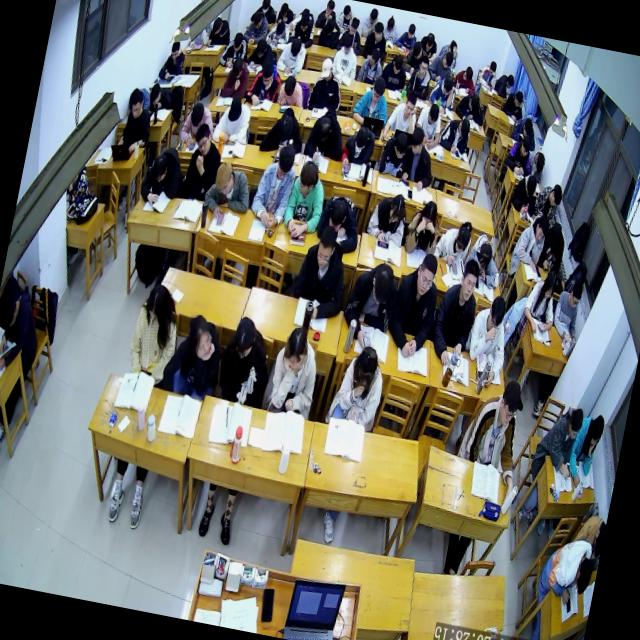bow: (200, 159, 254, 225), (312, 190, 366, 254), (138, 138, 186, 204), (302, 106, 348, 168), (258, 102, 310, 156), (460, 229, 506, 287), (432, 216, 474, 269), (453, 90, 489, 127), (276, 72, 308, 108), (146, 79, 177, 115), (246, 35, 276, 68), (510, 111, 540, 143), (316, 15, 342, 50), (265, 15, 293, 47)
down: (496, 376, 528, 428), (367, 262, 397, 310), (281, 325, 310, 374), (230, 311, 258, 358), (314, 220, 340, 268), (353, 344, 381, 388), (143, 285, 168, 327), (484, 294, 508, 336), (572, 555, 596, 597), (295, 162, 320, 200), (214, 156, 238, 194), (326, 194, 348, 234), (274, 144, 296, 182), (567, 404, 588, 442), (0, 293, 20, 331), (419, 199, 440, 231), (587, 414, 606, 448), (388, 192, 408, 224), (454, 222, 474, 253), (276, 114, 296, 144), (150, 154, 170, 184), (533, 213, 552, 244), (226, 92, 245, 122), (129, 86, 147, 116), (370, 76, 388, 106), (393, 129, 411, 159), (476, 242, 494, 272), (546, 216, 564, 246), (542, 270, 559, 301), (409, 124, 426, 154), (314, 115, 332, 143), (569, 277, 585, 307), (189, 100, 207, 126), (354, 124, 372, 150), (548, 183, 565, 210), (260, 62, 276, 88), (318, 56, 334, 82), (524, 172, 539, 199), (230, 56, 246, 81), (456, 118, 472, 142), (426, 102, 440, 128), (288, 36, 303, 59), (148, 84, 162, 108), (340, 32, 354, 56), (440, 74, 454, 98), (519, 132, 533, 156), (254, 39, 268, 62), (533, 151, 547, 174), (272, 20, 286, 41), (412, 39, 426, 60), (468, 91, 482, 112), (297, 8, 310, 30), (349, 12, 362, 34), (284, 72, 298, 92), (323, 13, 336, 34), (391, 51, 404, 72), (441, 51, 455, 70), (168, 40, 180, 62), (521, 118, 534, 138), (232, 28, 244, 49), (367, 47, 379, 68), (252, 8, 264, 28), (424, 32, 436, 52), (512, 90, 524, 110), (512, 164, 526, 180), (384, 16, 396, 34), (462, 65, 474, 83), (324, 0, 336, 16), (505, 73, 516, 90), (279, 0, 291, 15), (406, 22, 416, 40), (488, 60, 498, 78), (342, 3, 353, 19), (368, 8, 378, 25), (260, 0, 272, 12)
lookup: (414, 248, 441, 295), (456, 256, 482, 302), (193, 121, 215, 155), (402, 92, 418, 119), (417, 56, 430, 78), (372, 22, 384, 42)
sit: (450, 367, 534, 500), (382, 244, 445, 358), (288, 222, 357, 324), (122, 278, 186, 386), (427, 252, 486, 368), (158, 310, 230, 402), (214, 310, 278, 407), (266, 318, 326, 418), (338, 254, 401, 348), (459, 290, 516, 391), (326, 342, 389, 432), (534, 532, 598, 612), (248, 138, 301, 232), (280, 154, 332, 242), (0, 283, 47, 376), (180, 120, 227, 204), (566, 408, 608, 490), (542, 404, 586, 480), (398, 121, 442, 190), (520, 266, 562, 336), (364, 187, 412, 244), (548, 278, 588, 346), (210, 91, 256, 148), (306, 55, 348, 116), (118, 89, 156, 156), (403, 198, 445, 258), (351, 69, 395, 126), (512, 210, 552, 272), (382, 84, 422, 140), (244, 56, 284, 112), (339, 118, 379, 170), (412, 100, 447, 150), (219, 54, 254, 104), (538, 220, 570, 274), (503, 128, 538, 176), (378, 129, 412, 178), (508, 170, 543, 217), (436, 114, 473, 158), (331, 28, 364, 76), (532, 180, 564, 229), (274, 33, 308, 76), (158, 35, 188, 83), (404, 52, 436, 96), (427, 72, 459, 116), (361, 19, 391, 64), (218, 26, 250, 66), (378, 49, 410, 89), (356, 44, 385, 86), (242, 6, 272, 46), (401, 38, 432, 76), (289, 8, 319, 46), (428, 43, 456, 82), (205, 15, 234, 50), (499, 88, 527, 123), (524, 143, 548, 182), (452, 59, 481, 91), (249, 0, 279, 27), (313, 0, 339, 31), (359, 6, 382, 41), (477, 58, 499, 94), (396, 15, 420, 47), (380, 13, 403, 44), (418, 28, 441, 59), (493, 68, 516, 98), (336, 2, 356, 34), (276, 1, 296, 27), (210, 16, 223, 36)
